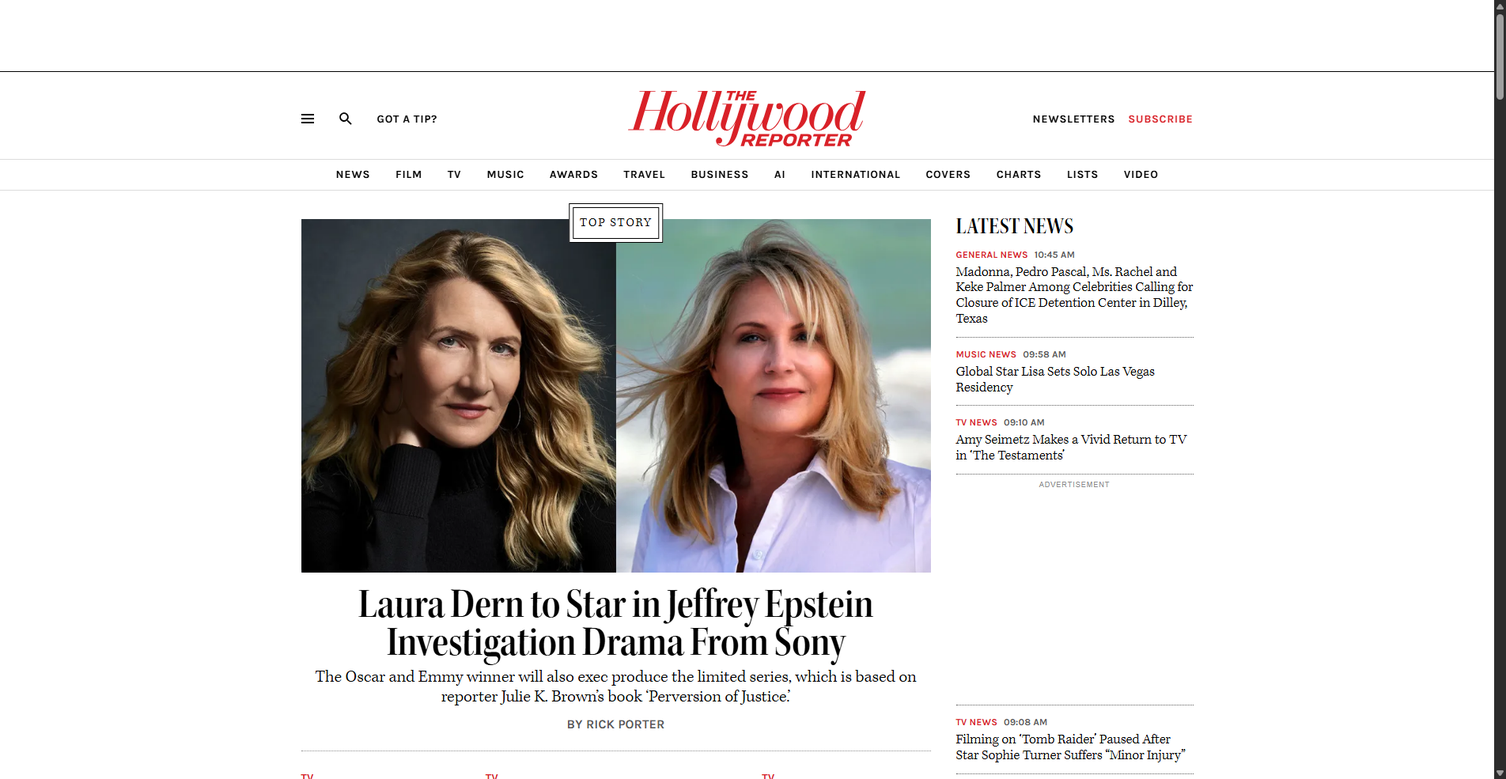button: (1020, 290, 1167, 322), (1047, 230, 1136, 274), (1039, 299, 1148, 314), (326, 99, 364, 138), (1059, 244, 1123, 259), (301, 112, 314, 126)
input: (815, 230, 1047, 274)
label: (814, 229, 815, 230)
link: (358, 580, 873, 667), (956, 263, 1193, 327), (628, 91, 866, 146), (956, 431, 1186, 464), (956, 731, 1185, 764), (814, 312, 1124, 336), (956, 363, 1155, 396), (586, 717, 665, 732), (755, 385, 829, 401), (811, 168, 900, 181), (1033, 112, 1115, 125), (1128, 112, 1193, 125), (956, 249, 1028, 260), (377, 112, 437, 125), (691, 168, 749, 181), (956, 349, 1017, 360), (550, 168, 598, 181), (996, 168, 1042, 181), (926, 168, 971, 181), (451, 375, 502, 386), (624, 168, 665, 181), (1021, 312, 1074, 322), (956, 716, 997, 728), (487, 168, 524, 181), (1065, 284, 1118, 293), (440, 269, 459, 294), (462, 269, 481, 294), (484, 269, 503, 294), (506, 269, 525, 294), (528, 269, 547, 294), (550, 269, 569, 294), (572, 269, 591, 294), (956, 417, 997, 428), (346, 375, 387, 386), (336, 168, 370, 181), (1124, 168, 1158, 181), (984, 284, 1033, 293), (400, 375, 438, 386), (1067, 168, 1099, 181), (396, 168, 422, 181), (448, 168, 461, 181), (774, 168, 786, 181), (301, 771, 314, 779), (485, 771, 498, 779), (762, 771, 775, 779)
